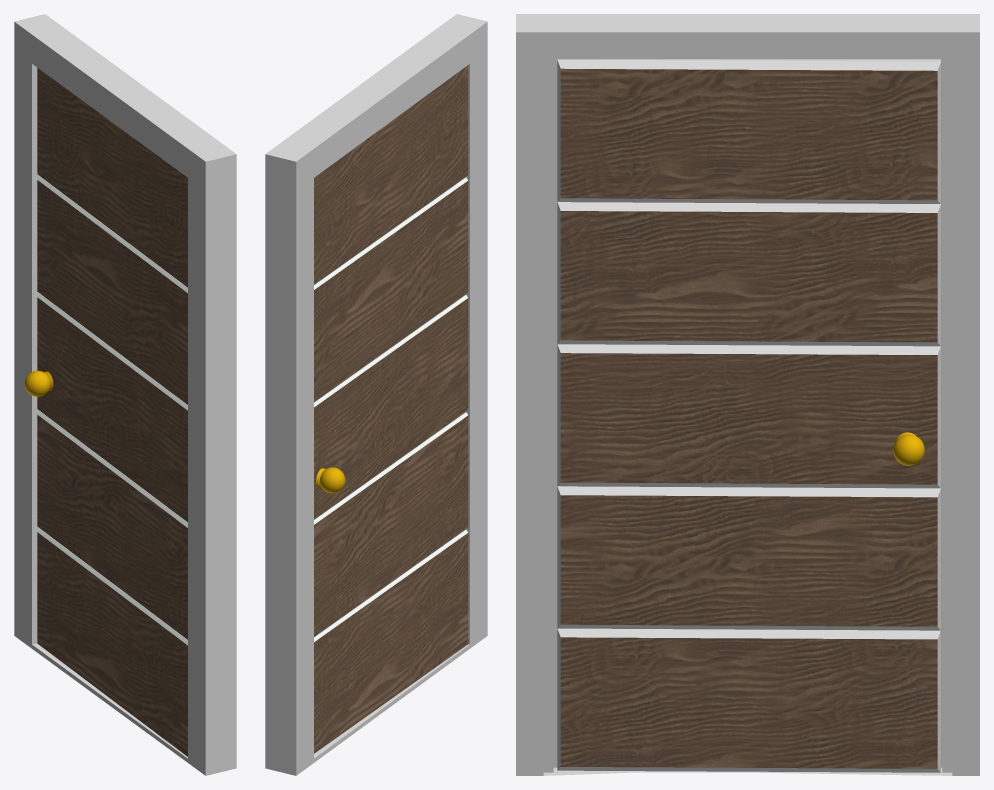
Rendered from SM_Pintu_001.fbx.
The picture shows the model from 3 angles, left to right: view 1: azimuth 30°, elevation 25°; view 2: azimuth 150°, elevation 25°; view 3: azimuth 270°, elevation 25°; orthographic projection. The views are drawn at different scales.
Parts seen in each view (by area): view 1: Sphere.001; view 2: Sphere.001; view 3: Sphere.001.
Boxes of the visible parts, left/top/right/bottom form: Sphere.001: left=14, top=14, right=236, bottom=775; Sphere.001: left=265, top=14, right=487, bottom=775; Sphere.001: left=516, top=14, right=979, bottom=775.
Bounding box in the file's own units: 101 × 817 × 462.
